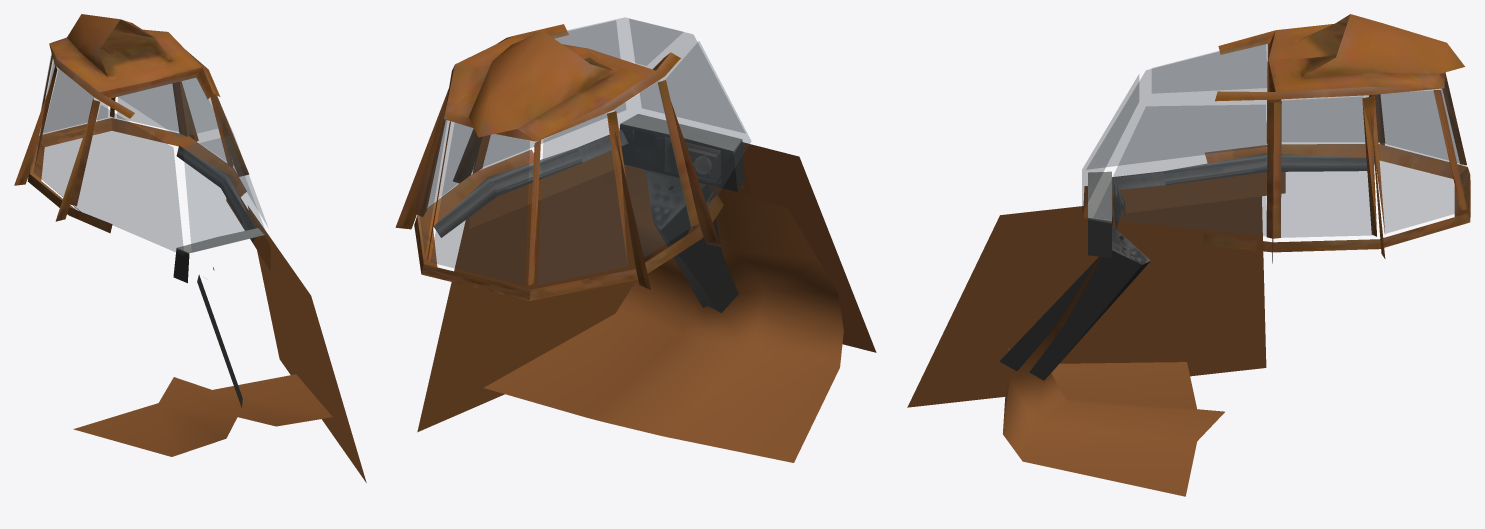
Rendered from cloudcarcockpit.lod1.glb.
3 views of the same model, side by side, from view 1: azimuth 30°, elevation 25°; view 2: azimuth 150°, elevation 25°; view 3: azimuth 270°, elevation 25° (orthographic). The views are drawn at different scales.
Size of the model in its own units: 0.8353 by 1.14 by 1.36.
Materials: 3 (2 with a texture image).
